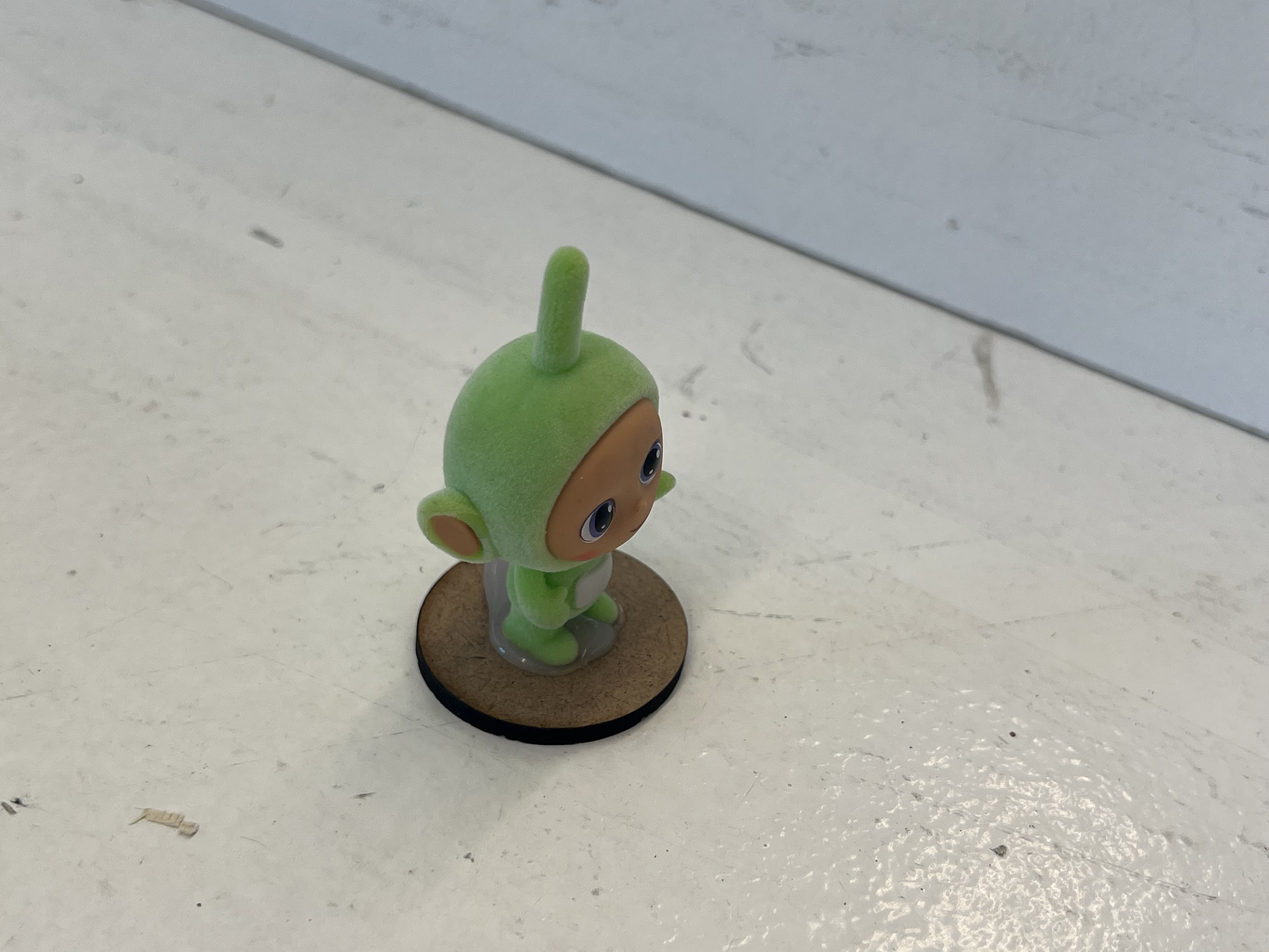teletubby: (418, 247, 675, 665)
